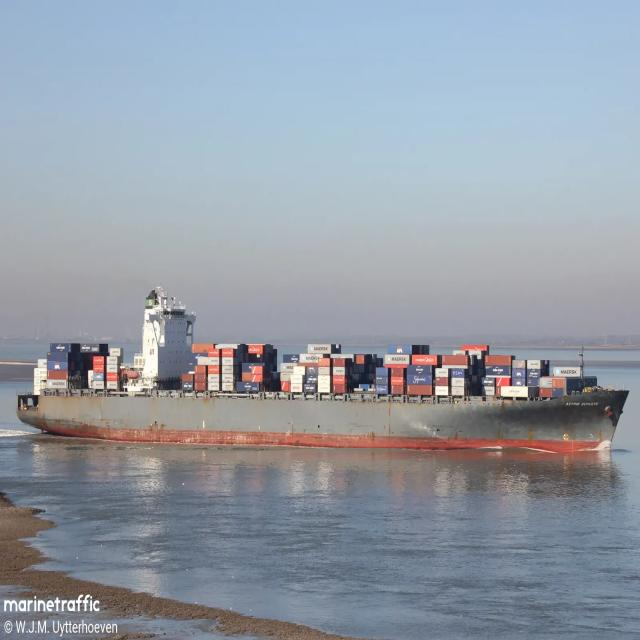Cargo: (18, 287, 628, 451)
